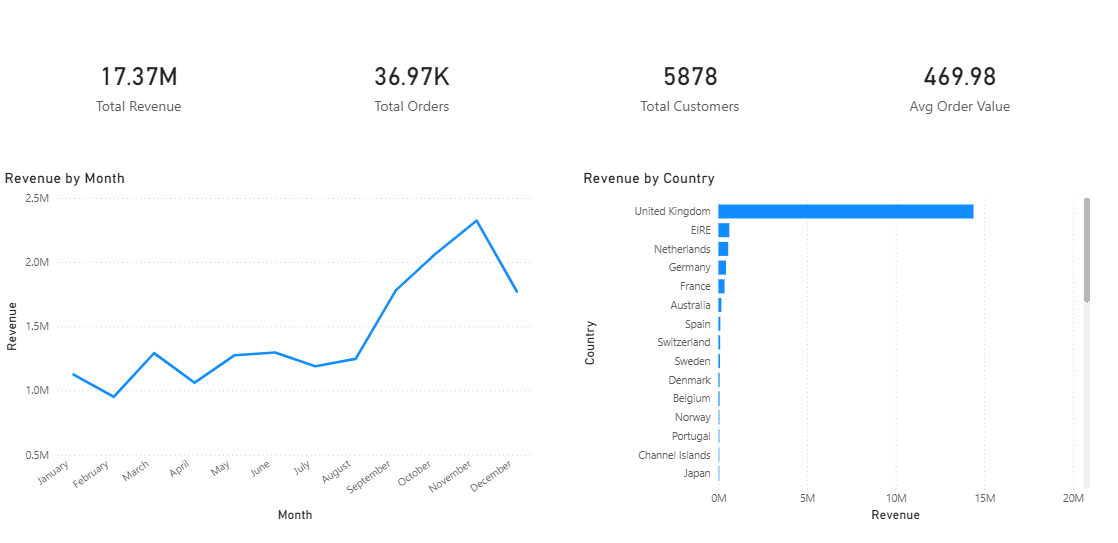

What the dashboard file says about the page in this screenshot:
{"tool":"powerbi","page":{"name":"Executive Overview","canvas":[1280,720],"ordinal":0},"visuals":[{"type":"card","fields":{"Values":["Sum(cleaned_retail.Revenue)"]},"box":[9.6,0,279.9,194.9],"z":0},{"type":"card","fields":{"Values":["Count(cleaned_retail.Customer ID)"]},"box":[569.5,43.9,279.9,150.9],"z":1000},{"type":"card","fields":{"Values":["Count(cleaned_retail.Invoice)"]},"box":[289.5,43.9,279.9,150.9],"z":2000},{"type":"card","fields":{"Values":["cleaned_retail.Avg Order Value"]},"box":[849.4,49.4,279.9,150.9],"z":3000},{"type":"lineChart","fields":{"Category":["cleaned_retail.InvoiceDate.Variation.Date Hierarchy.Month"],"Y":["Sum(cleaned_retail.Revenue)"]},"box":[0,194.9,614.8,308.7],"z":4000},{"type":"clusteredBarChart","fields":{"Category":["cleaned_retail.Country"],"Y":["Sum(cleaned_retail.Revenue)"]},"box":[661.4,194.9,590.1,300.5],"z":5000}]}

Visuals, with their boxes on the page's 1280x720 design canvas (x1, y1, x2, y2). These are canvas units, not pixel positions in the 1118x543 screenshot, which may show the page scaled, cropped or inside an application window:
card - Sum(cleaned_retail.Revenue): [10, 0, 290, 195]
card - Count(cleaned_retail.Customer ID): [570, 44, 849, 195]
card - Count(cleaned_retail.Invoice): [290, 44, 569, 195]
card - cleaned_retail.Avg Order Value: [849, 49, 1129, 200]
lineChart - cleaned_retail.InvoiceDate.Variation.Date Hierarchy.Month x Sum(cleaned_retail.Revenue): [0, 195, 615, 504]
clusteredBarChart - cleaned_retail.Country x Sum(cleaned_retail.Revenue): [661, 195, 1252, 495]
